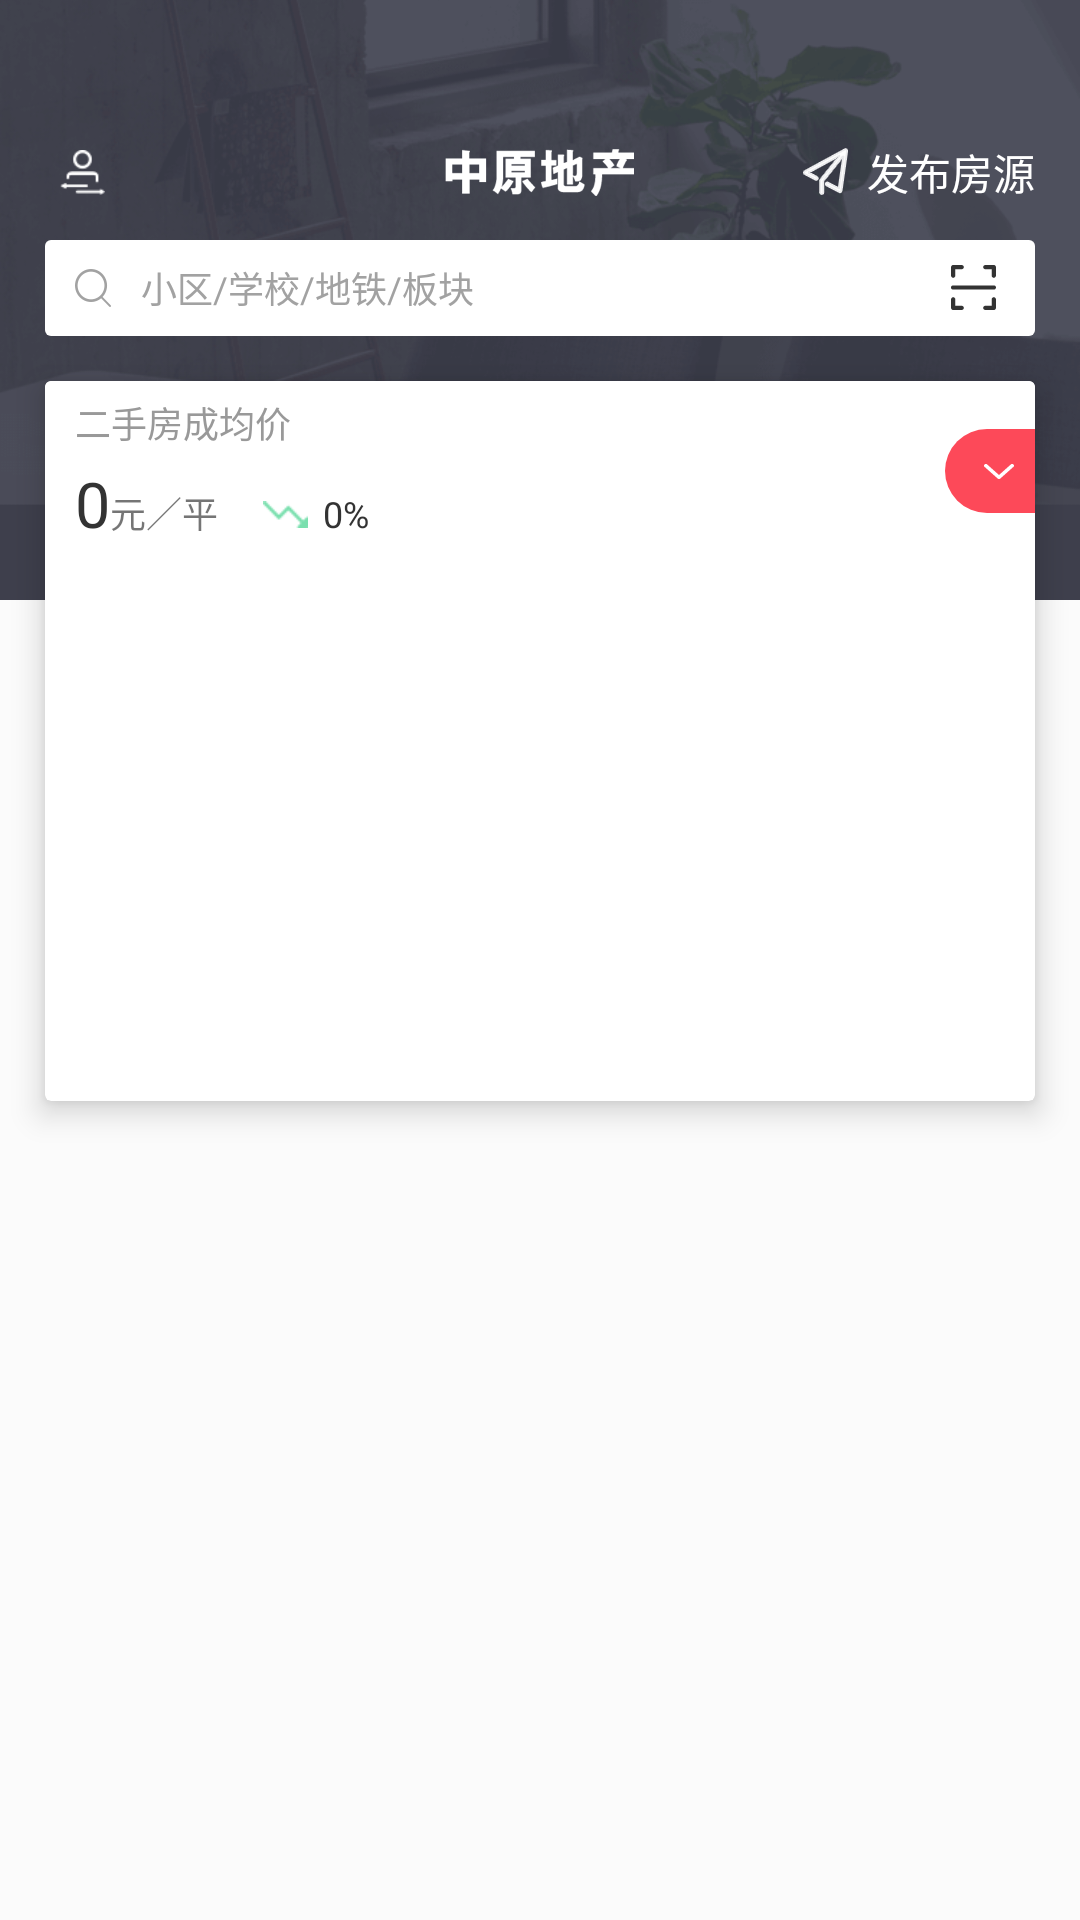

Icons on this 1080px×1920px Android screen, each with the point to tap as [x,y]:
home identity: [83,172]
home scan: [973,287]
